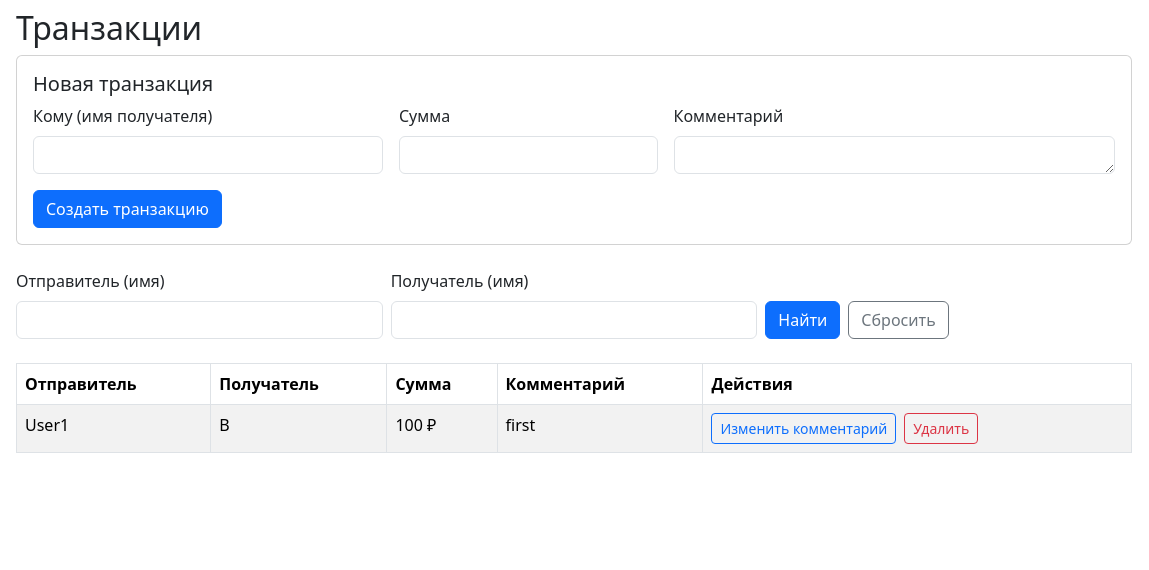
Test: Transactions page › deletes own transaction and reloads list
The image size is (1149, 570).
Click the button "Удалить" at (941, 429), box [904,413,978,444]
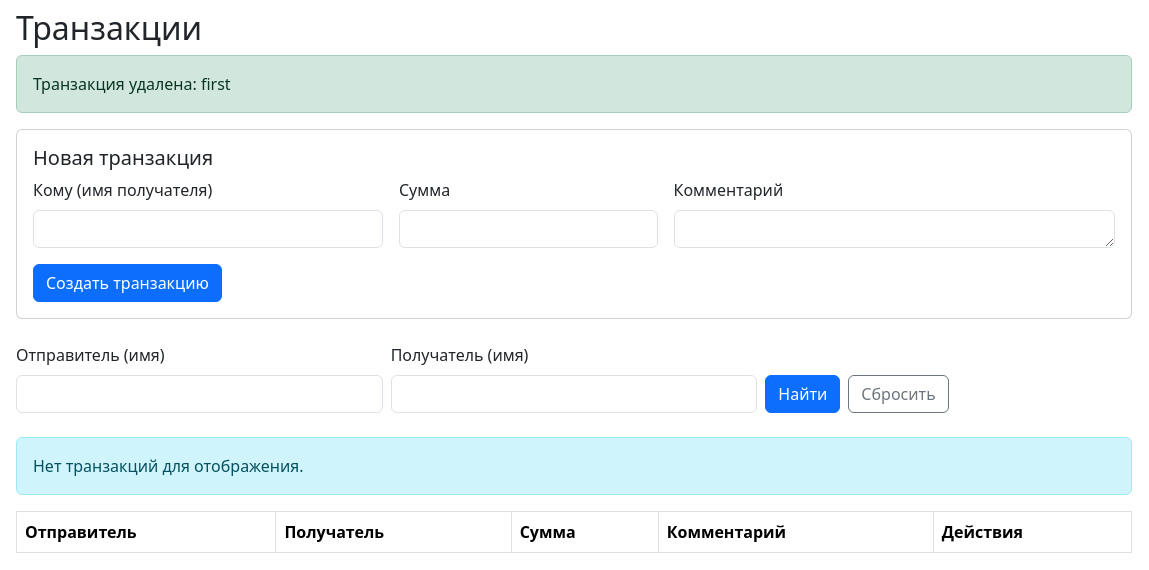
Check: the text "Транзакция удалена: first" is shown, box [16,55,1132,113]
